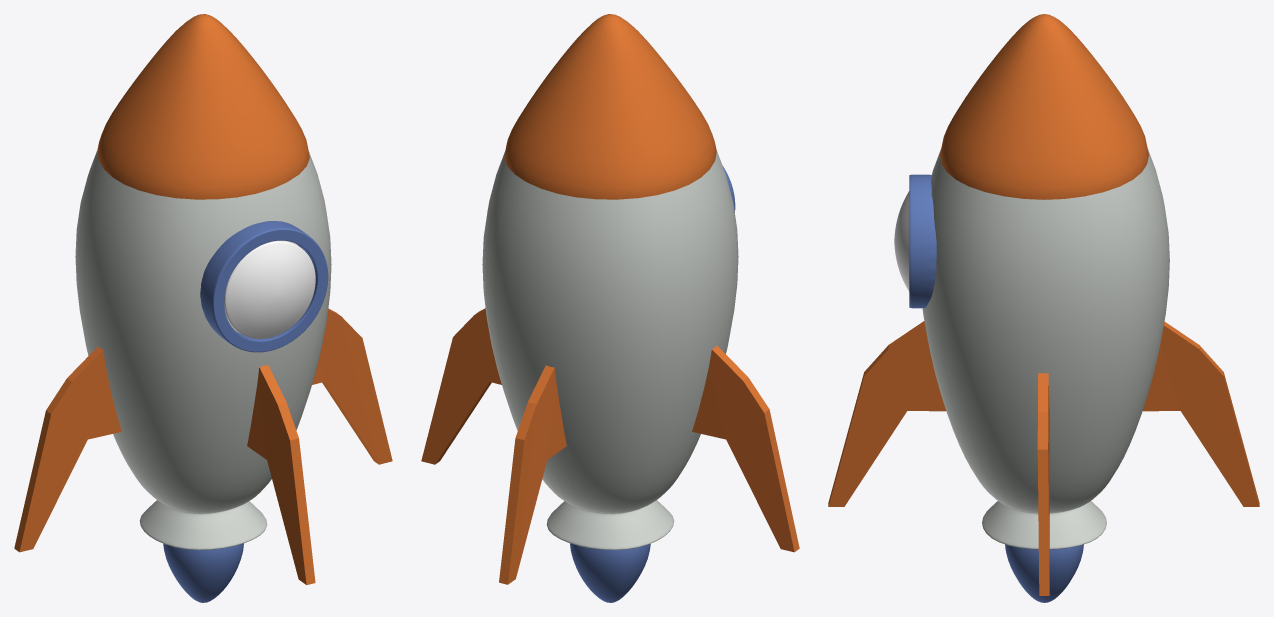
The model's file is rocket.gltf.
3 renders of one model, left to right at view 1: azimuth 30°, elevation 25°; view 2: azimuth 150°, elevation 25°; view 3: azimuth 270°, elevation 25°, orthographic.
Parts seen in each view (by area): view 1: Cube, Cube.001, Cube.002, Cylinder.001, Cube.003, Cylinder, Cube.004; view 2: Cube, Cube.001, Cube.002, Cube.003, Cube.004; view 3: Cube, Cube.001, Cube.003, Cylinder, Cube.002, Cube.004, Cylinder.001.
Part boxes in pixels (x1,y1,x2,y2): Cube: (75, 151, 331, 549); Cube.001: (97, 14, 309, 199); Cube.002: (14, 308, 392, 552); Cylinder.001: (224, 240, 315, 338); Cube.003: (247, 365, 315, 584); Cylinder: (200, 221, 328, 352); Cube.004: (163, 543, 243, 602); Cube: (482, 151, 738, 549); Cube.001: (504, 14, 716, 199); Cube.002: (421, 308, 799, 552); Cube.003: (499, 365, 566, 584); Cube.004: (570, 543, 650, 602); Cube: (922, 149, 1169, 549); Cube.001: (940, 14, 1148, 199); Cube.003: (828, 321, 1259, 506); Cylinder: (909, 174, 936, 308); Cube.002: (1037, 373, 1049, 595); Cube.004: (1005, 544, 1083, 602); Cylinder.001: (894, 191, 909, 291).
Size of the model in its own units: 2.91 by 4.37 by 2.91.
